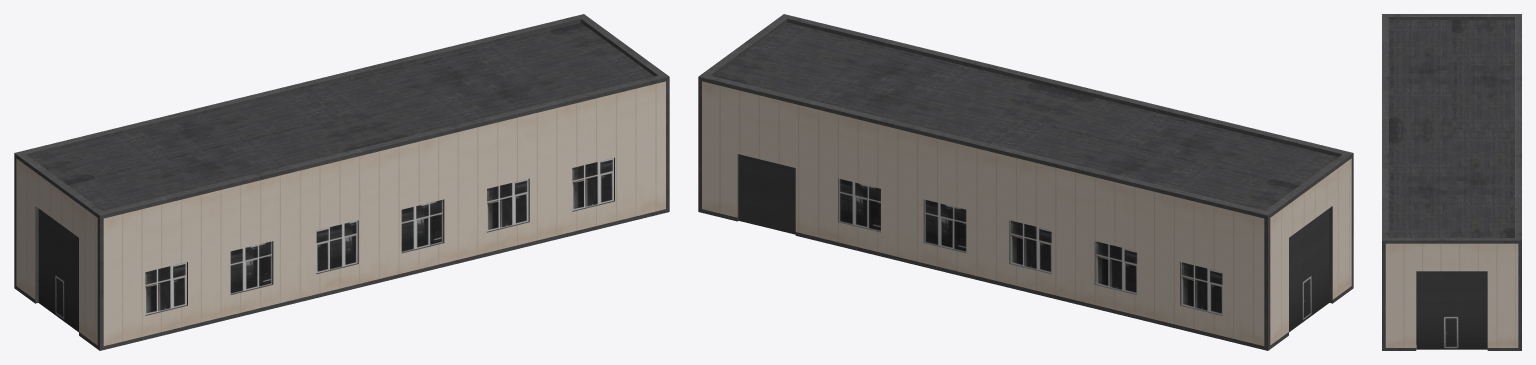
File: plant-building31.glb
3 renders of one model, left to right at view 1: azimuth 30°, elevation 25°; view 2: azimuth 150°, elevation 25°; view 3: azimuth 270°, elevation 25°, orthographic. The views are drawn at different scales.
Parts seen in each view (by area): view 1: Object8935351; view 2: Object8935351; view 3: Object8935351.
Boxes of the visible parts, bbox=[...] form: Object8935351: bbox=[14, 14, 669, 350]; Object8935351: bbox=[698, 14, 1353, 350]; Object8935351: bbox=[1382, 14, 1521, 350].
Size of the model in its own units: 31.72 by 7.19 by 8.26.
1 material, 1 textured.
